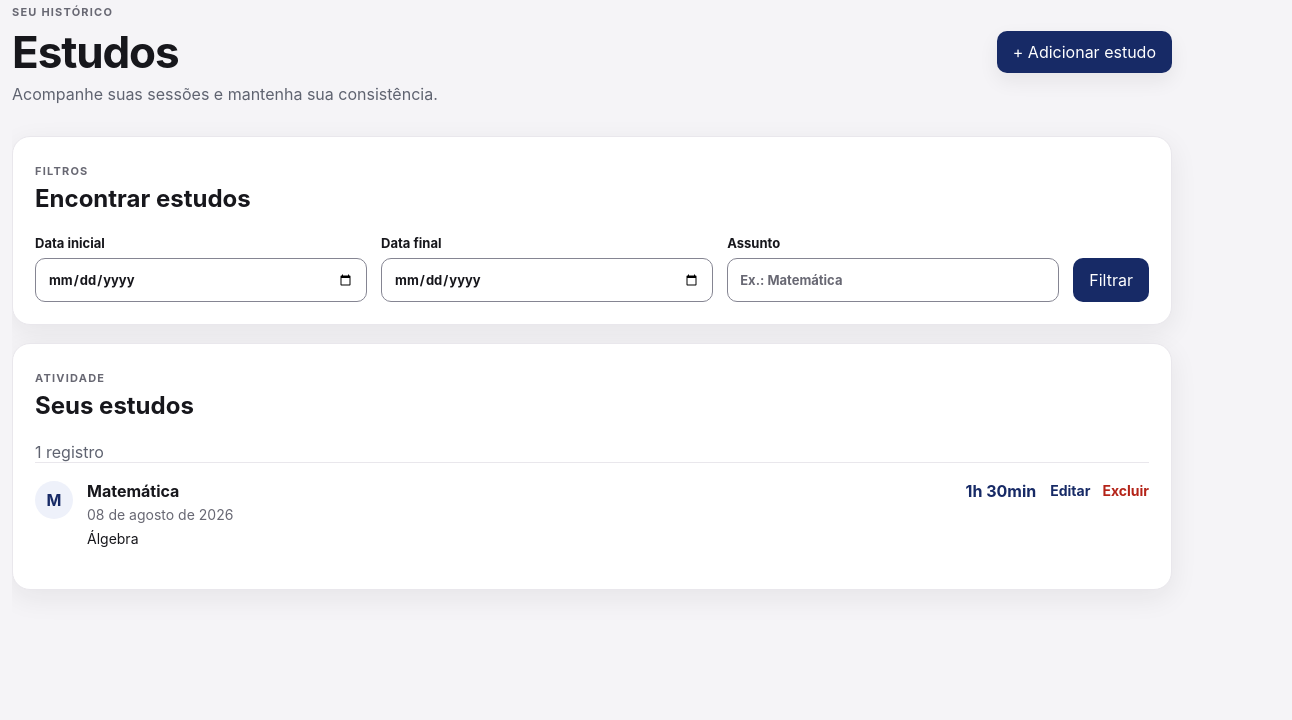
Test: Studies › deletes after confirmation and reloads
Click the button "Excluir".
click(1126, 491)  # box [1102, 482, 1149, 499]
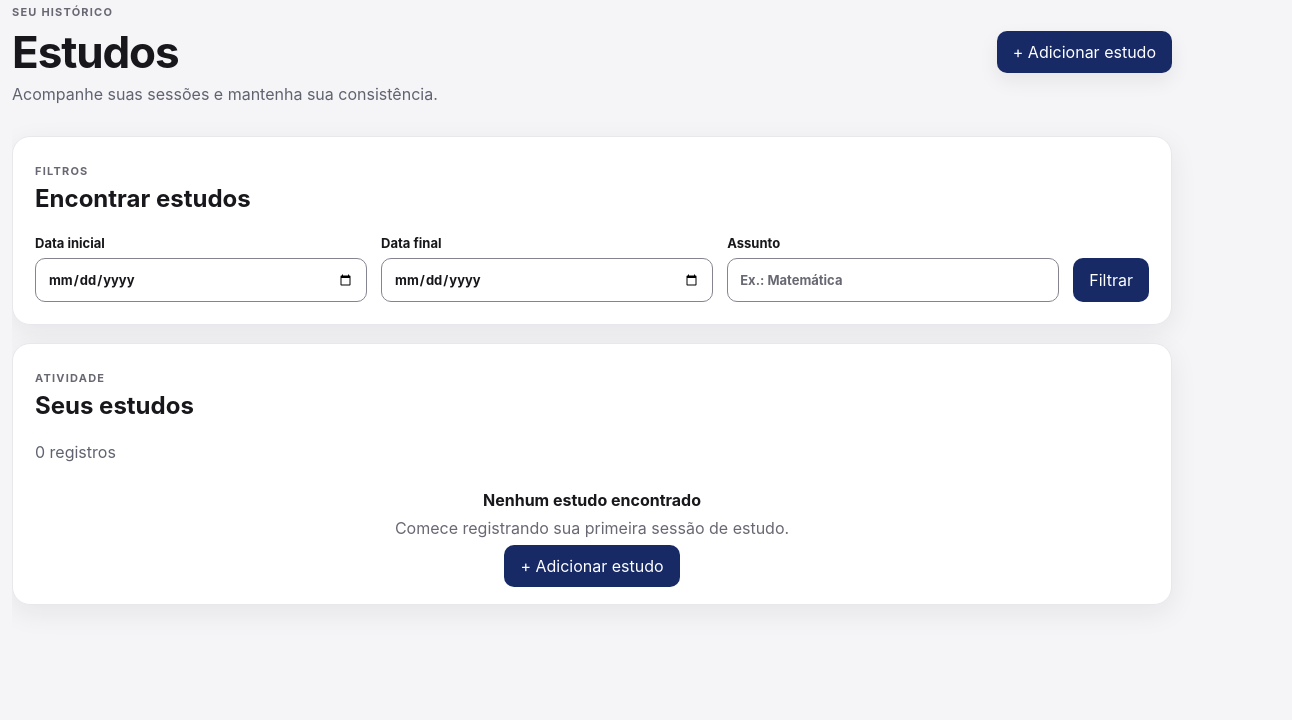
Expected: the heading "Nenhum estudo encontrado" is shown, [483, 490, 701, 510]
